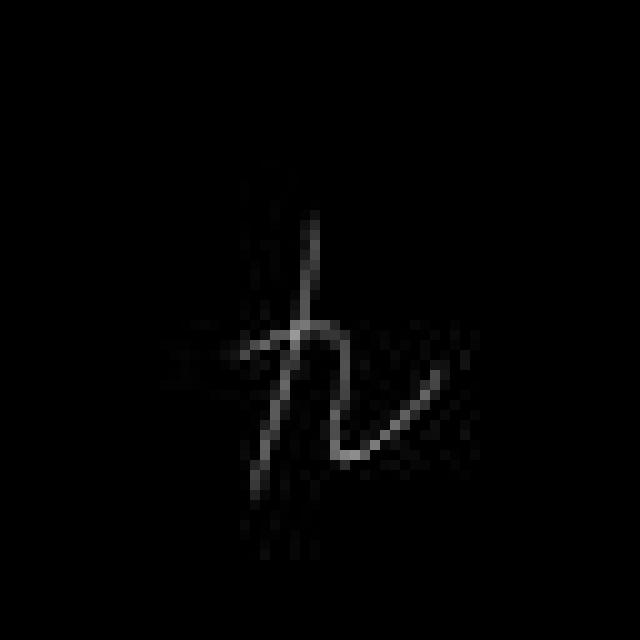9 -nine-: (229, 222, 446, 500)
